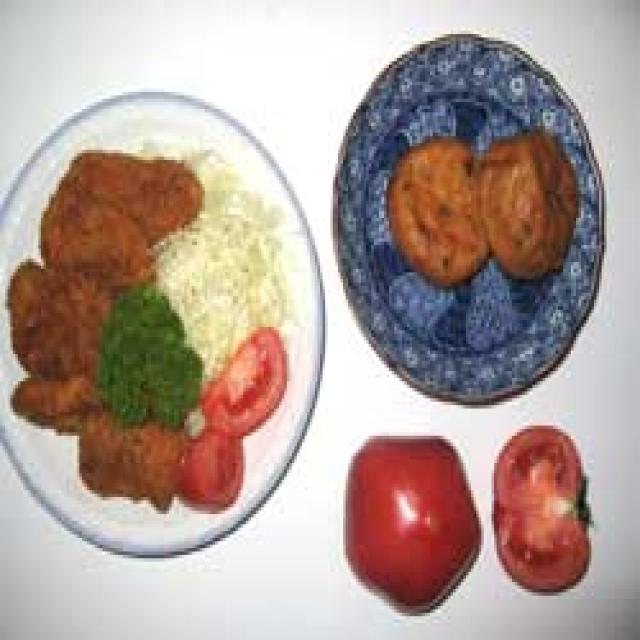熟制海鲜: (320, 82, 568, 300)
